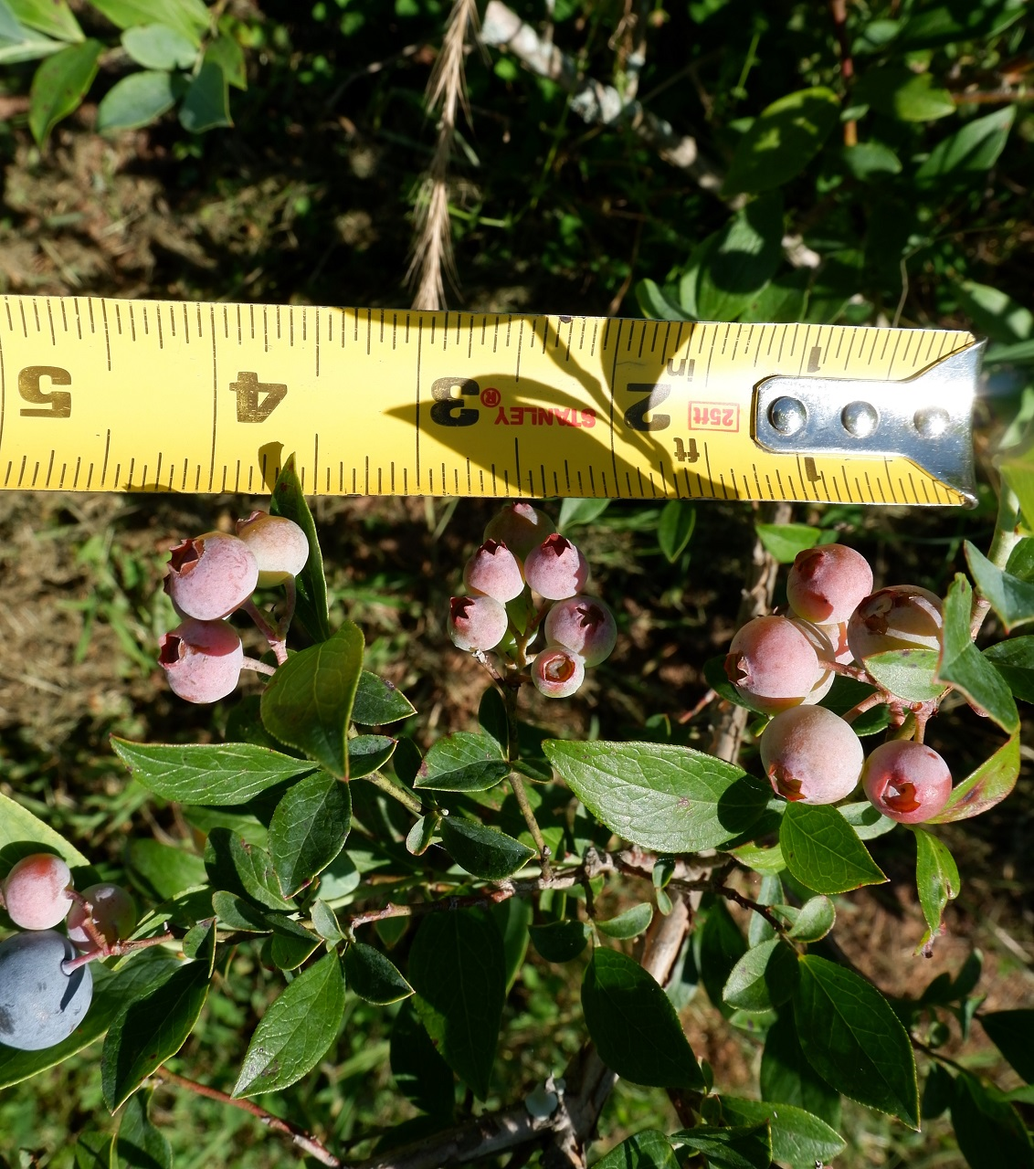Immature: (761, 703, 865, 804), (724, 616, 818, 714), (164, 530, 259, 619), (848, 584, 944, 672), (861, 738, 952, 822), (157, 617, 244, 702), (787, 542, 873, 624), (2, 852, 75, 930), (236, 510, 308, 586), (544, 595, 617, 667), (66, 881, 138, 953), (484, 501, 557, 567), (785, 616, 835, 704), (524, 532, 588, 599), (786, 604, 855, 666), (462, 538, 526, 603), (448, 594, 507, 652), (489, 595, 541, 652), (531, 645, 585, 698)
Mature: (0, 930, 93, 1048)
